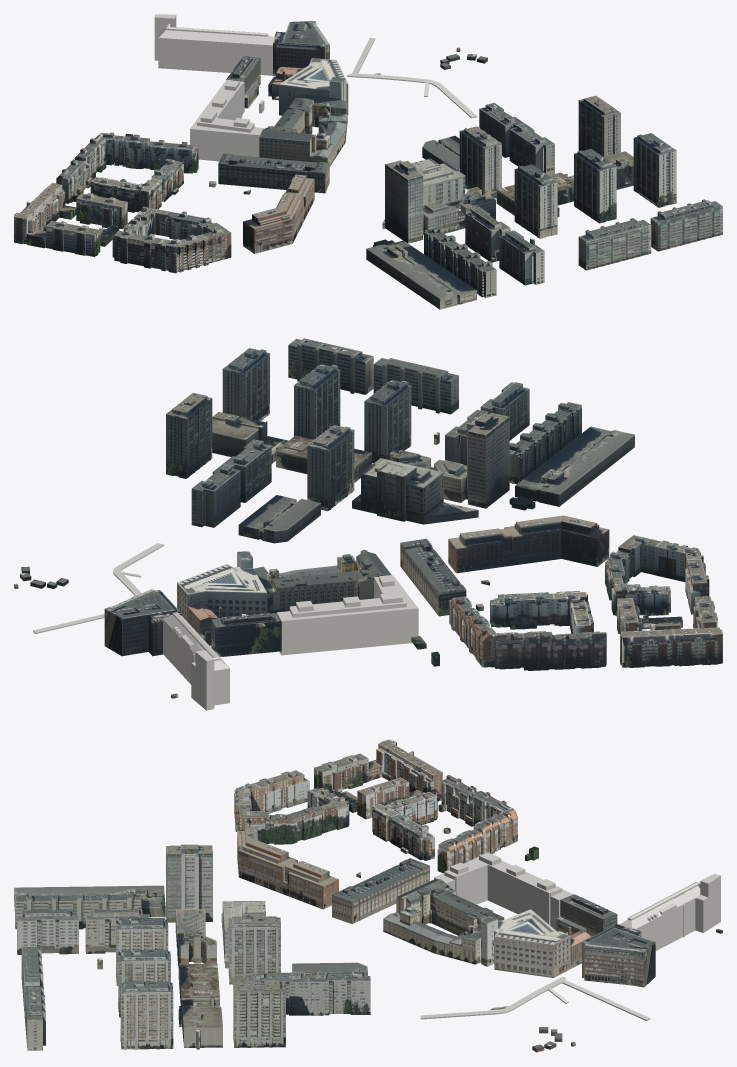
The model's file is buildings.glb.
3 views of the same model, one above another, from view 1: azimuth 30°, elevation 25°; view 2: azimuth 150°, elevation 25°; view 3: azimuth 270°, elevation 25° (orthographic). The views are drawn at different scales.
Visible parts, largest first — view 1: buildings; view 2: buildings; view 3: buildings.
Part boxes in pixels (box(x1,y1,x2,y2)): buildings: box(14, 14, 722, 309); buildings: box(14, 338, 722, 710); buildings: box(14, 739, 722, 1052).
Bounding box in the file's own units: 537 × 71.25 × 566.
Materials: 5 (4 with a texture image).
